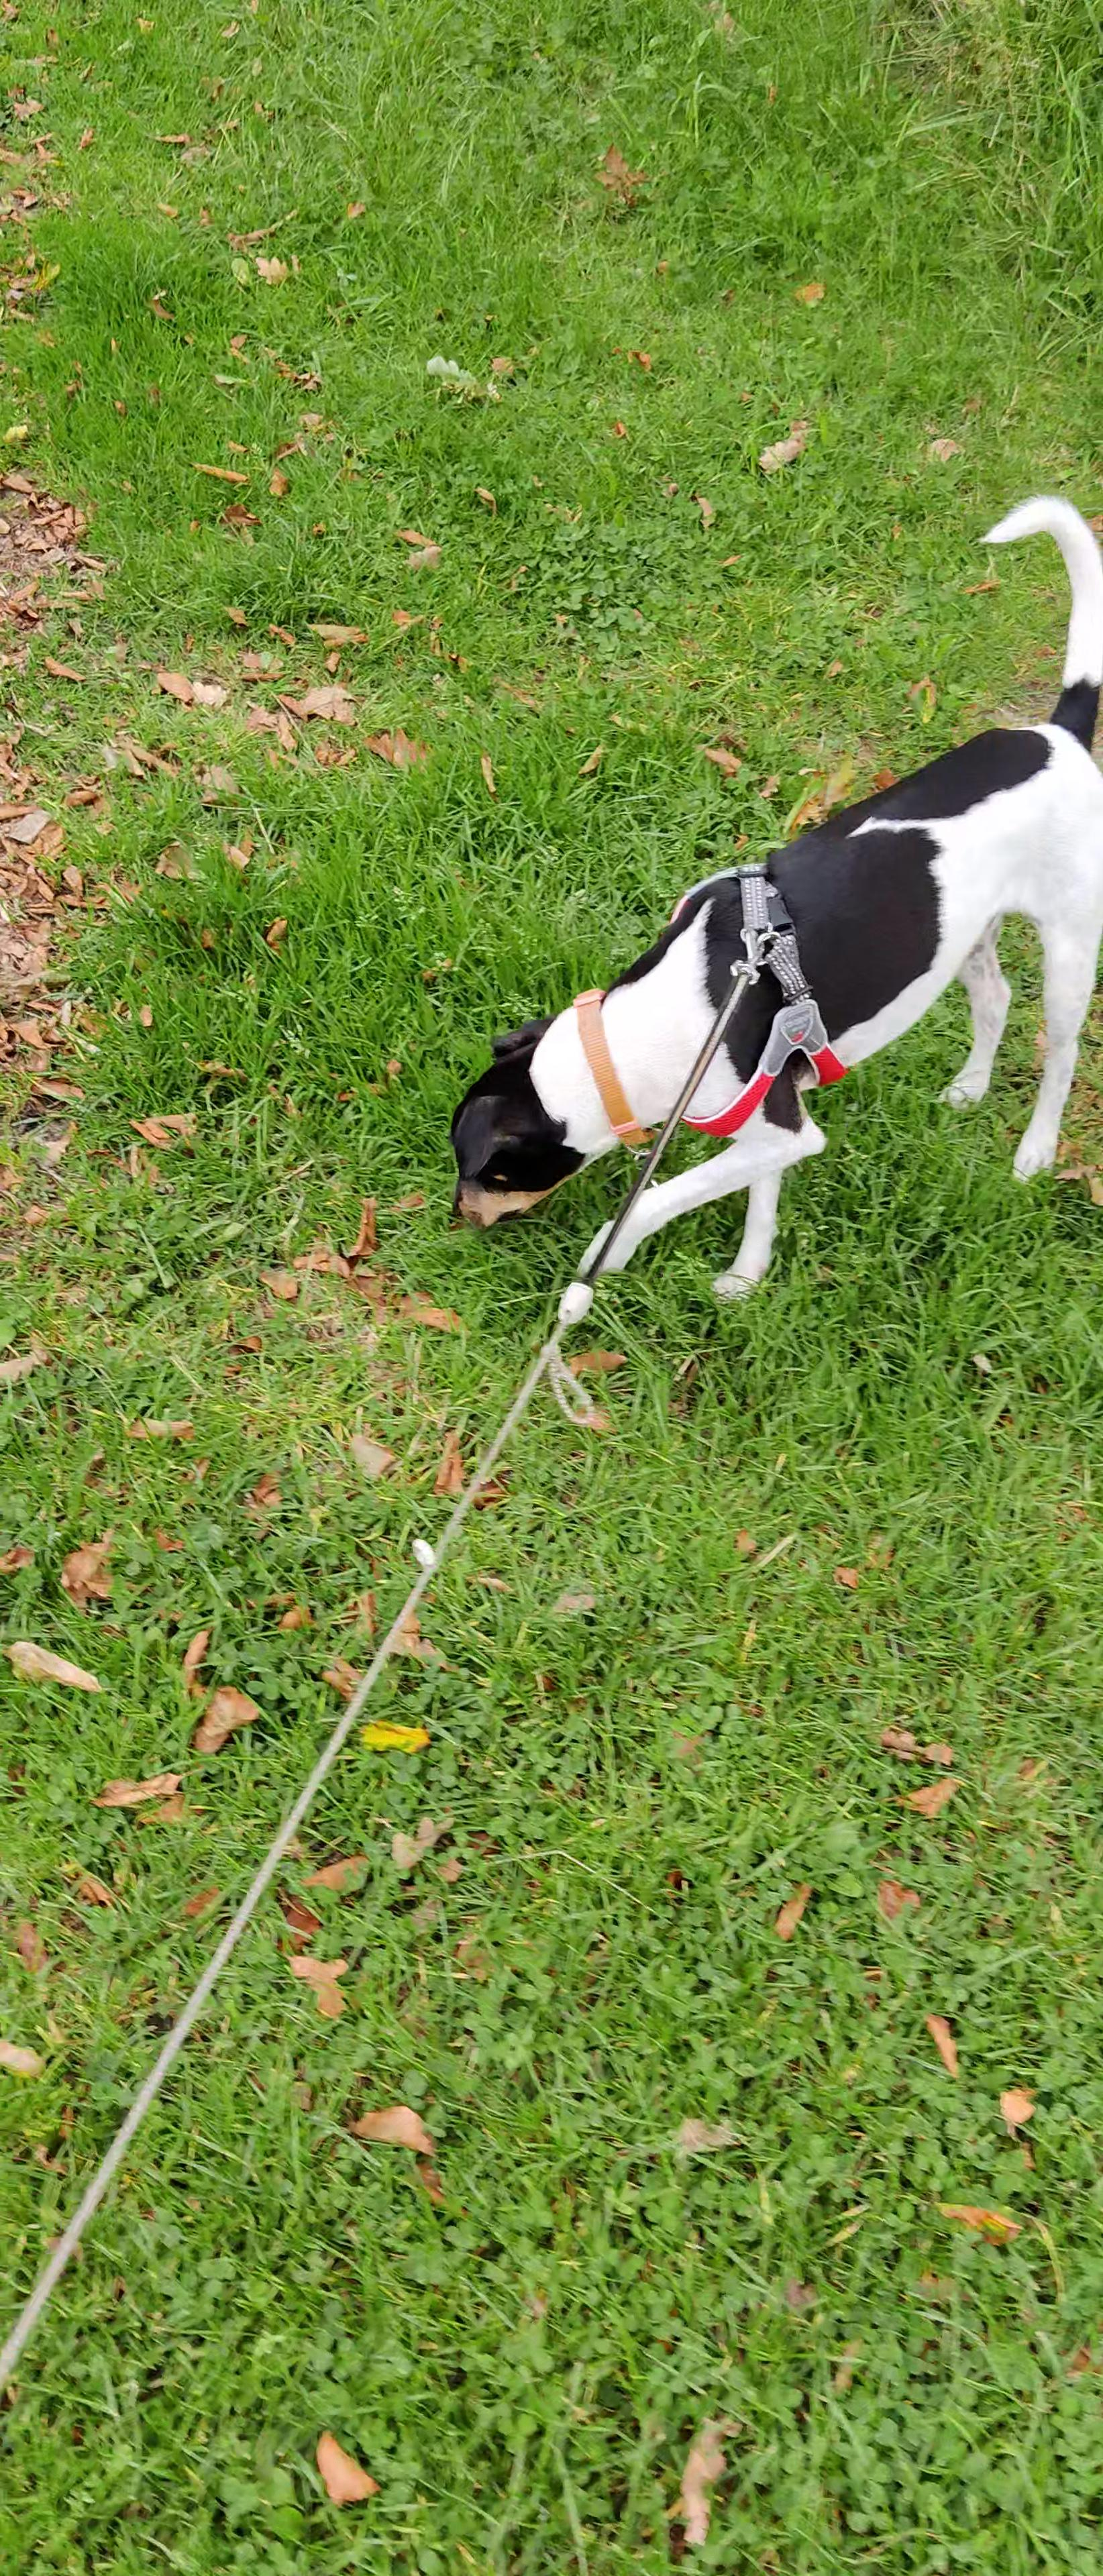Dog: (427, 478, 1103, 1329)
